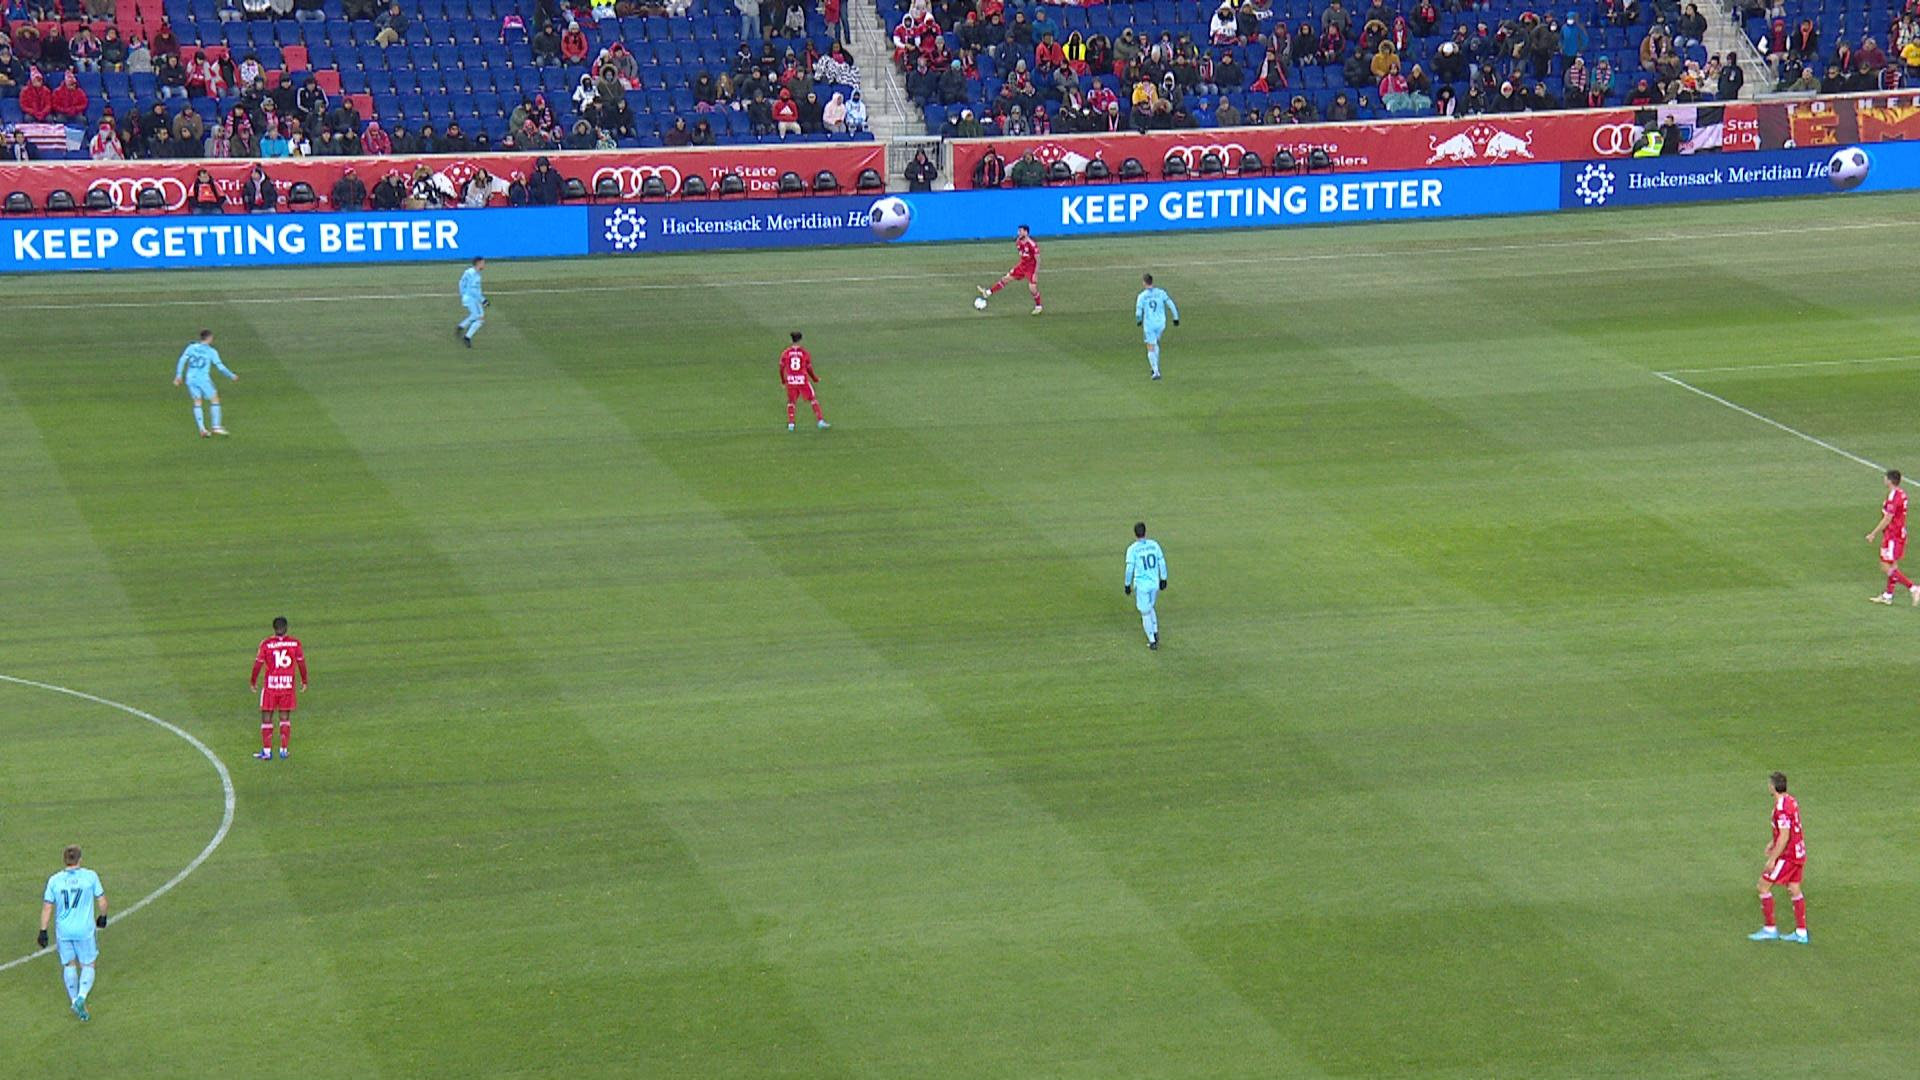football: (973, 297, 989, 311)
